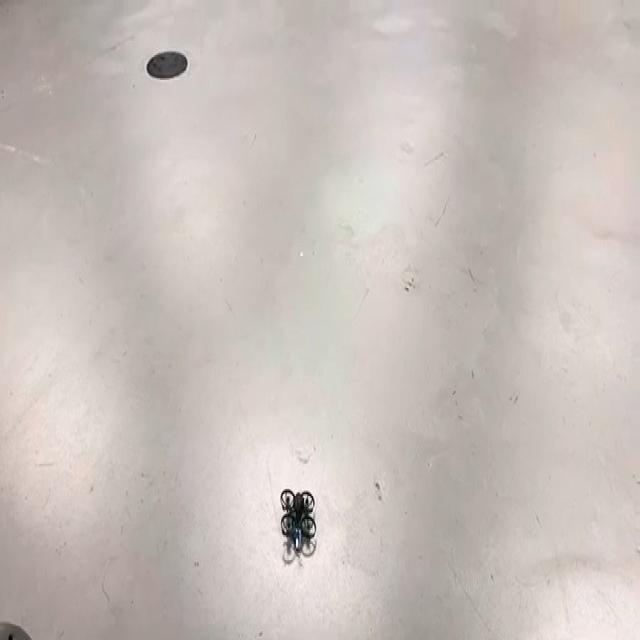drone: (272, 467, 320, 565)
